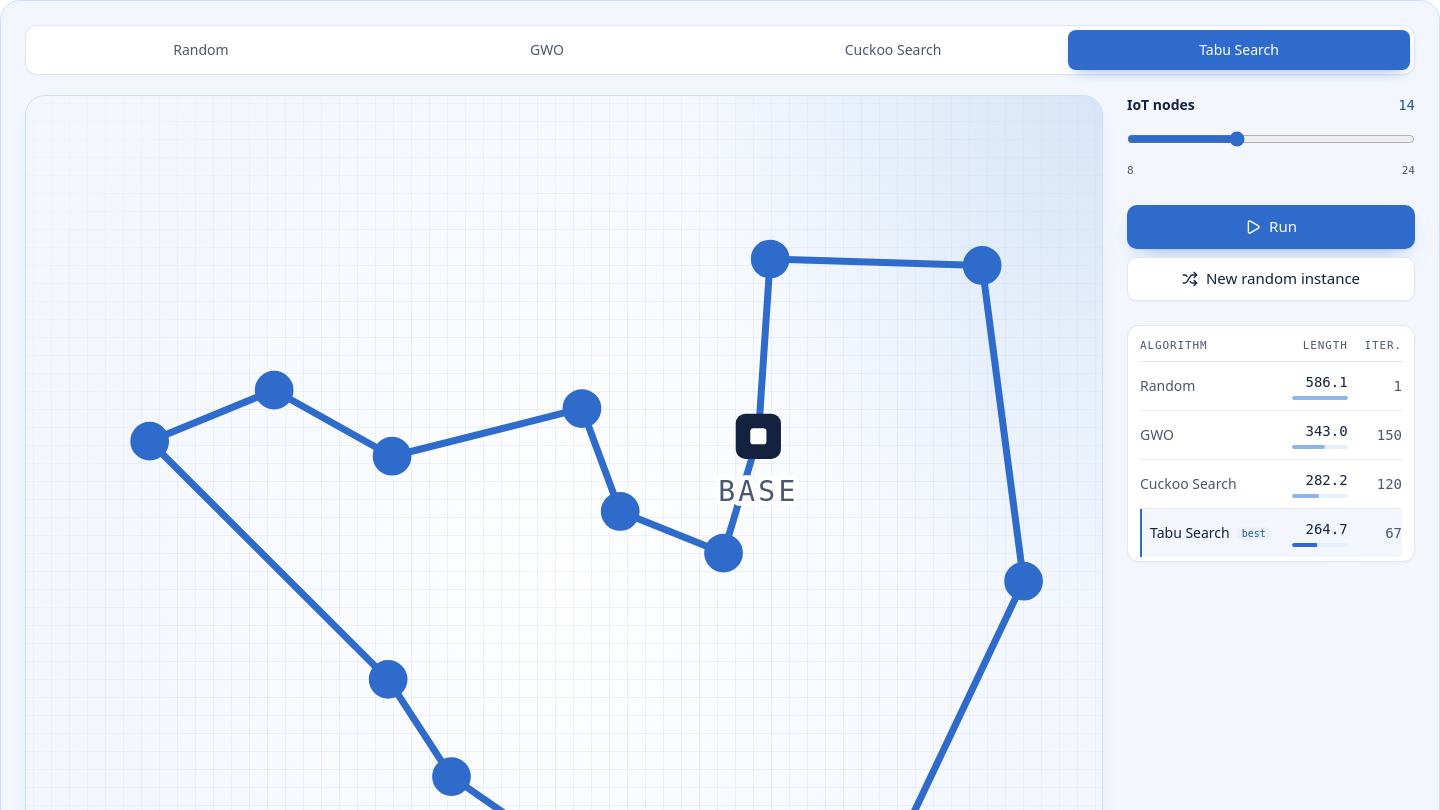
UavTrajectoryLab › starts the flight animation when Run is pressed
The width and height of the screenshot is (1440, 810).
Click the button "Run".
click(1271, 226)  # box [1127,204,1415,248]
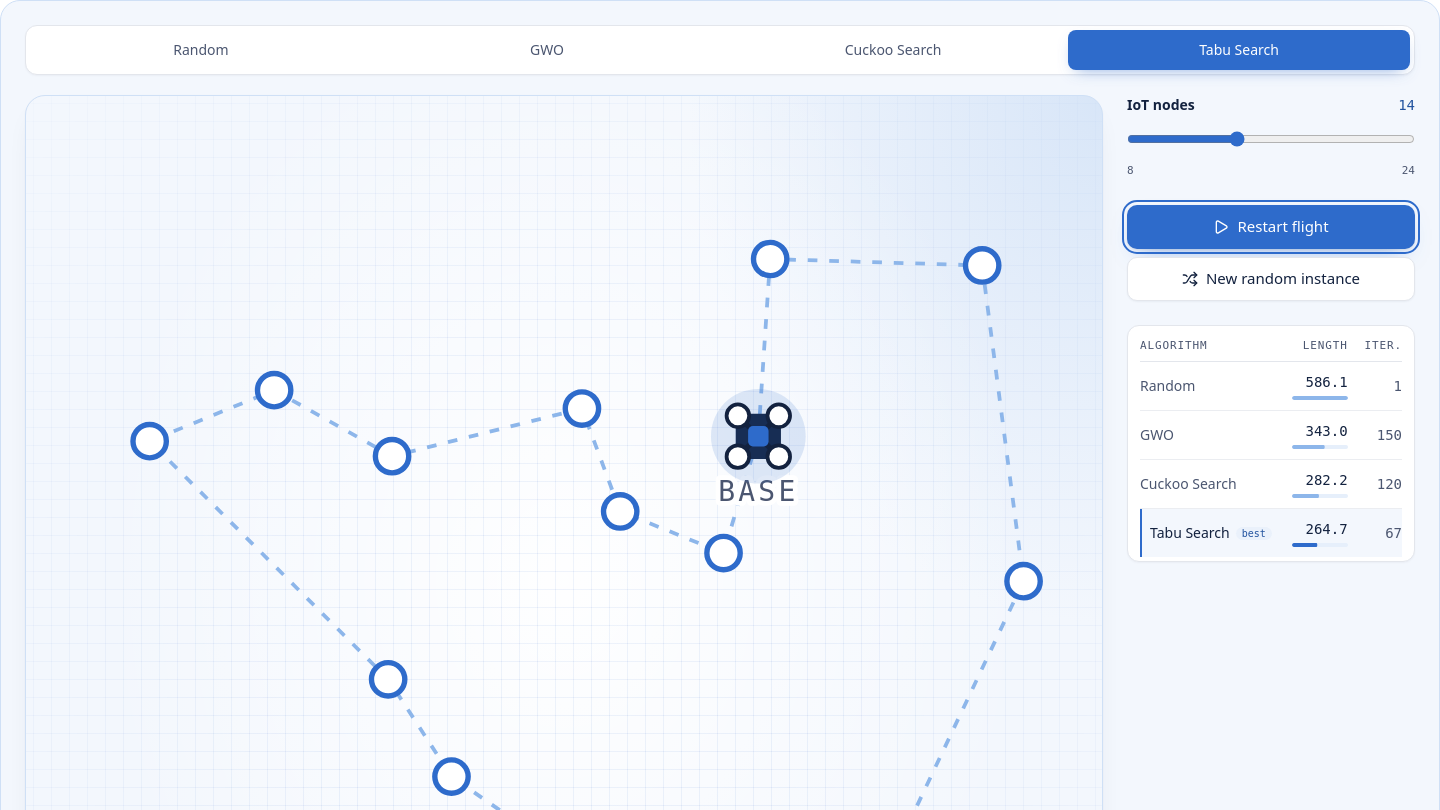
Check: the button "Restart flight" is shown, box [1127,204,1415,248]
